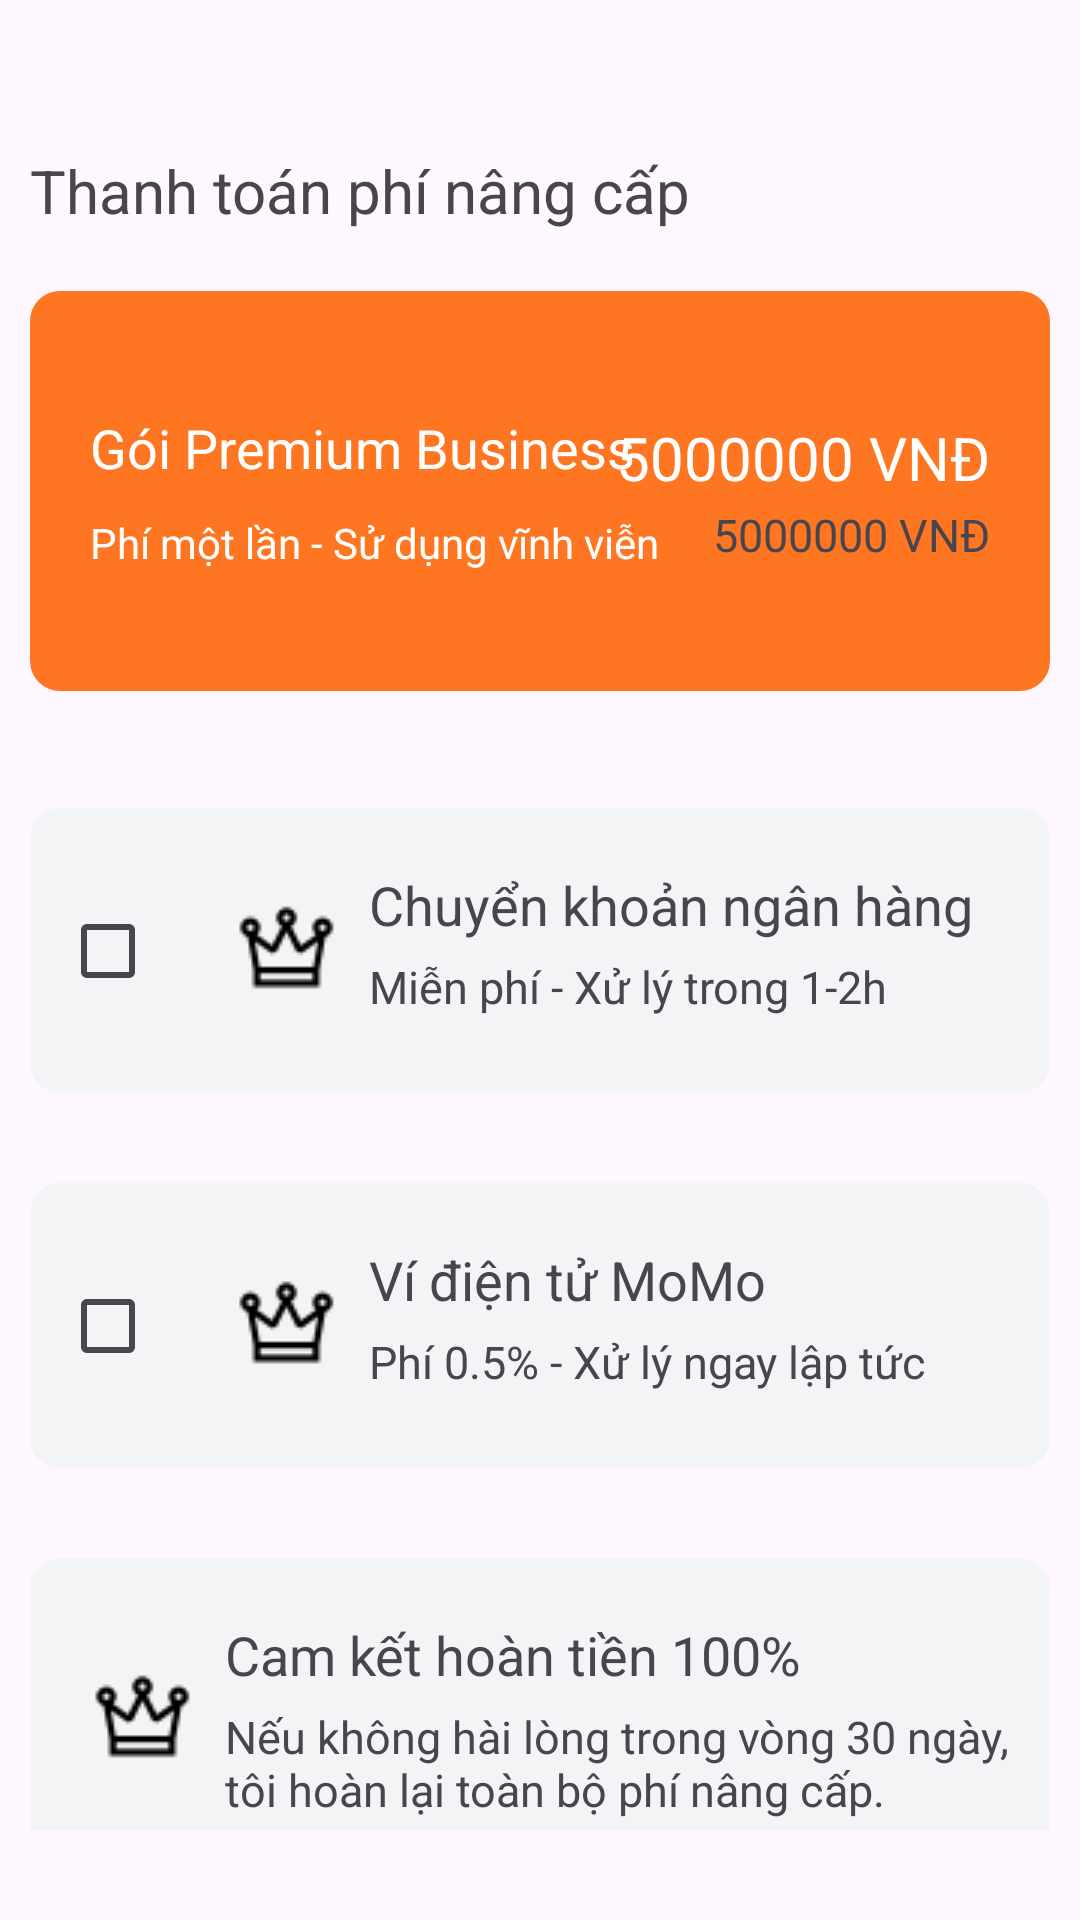

Icon click points for this 1080*1920 phone screenshot, format (x=x, y=y):
crown: (x=286, y=947), (x=286, y=1322), (x=142, y=1716)
